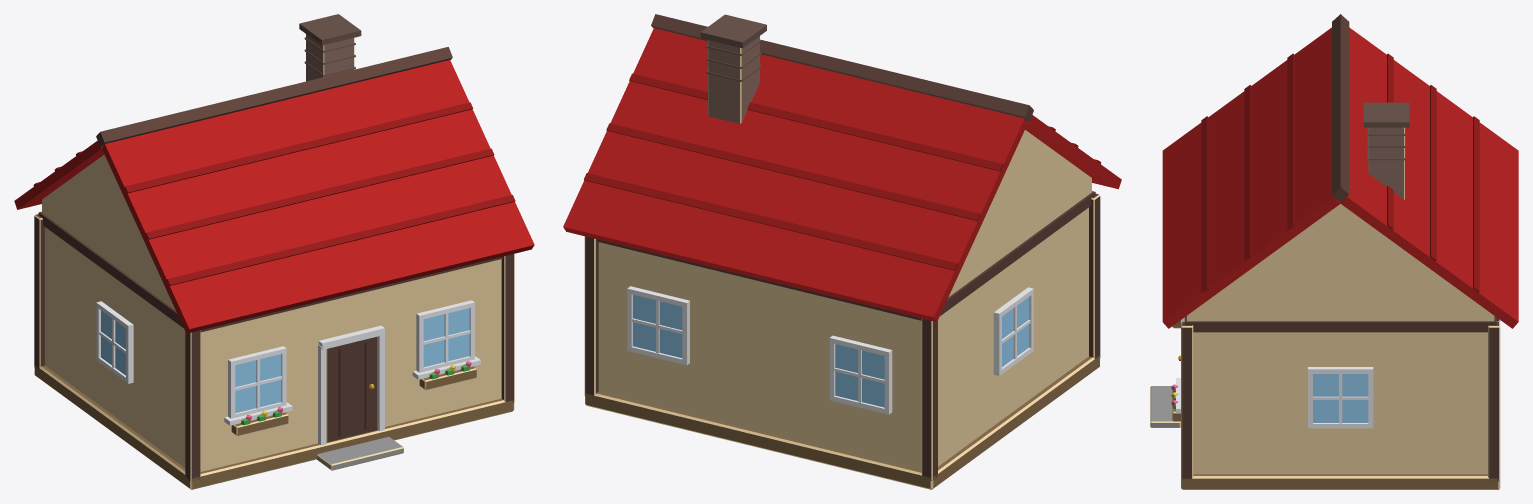
The model's file is cottage.glb.
The picture shows the model from 3 angles, left to right: view 1: azimuth 30°, elevation 25°; view 2: azimuth 150°, elevation 25°; view 3: azimuth 270°, elevation 25°; orthographic projection. The views are drawn at different scales.
Parts seen in each view (by area): view 1: cottage-m; view 2: cottage-m; view 3: cottage-m.
Boxes of the visible parts, x1,y1,x2,y2 form: cottage-m: (14, 14, 534, 489); cottage-m: (563, 14, 1121, 489); cottage-m: (1150, 14, 1518, 489).
Bounding box in the file's own units: 6.66 × 6.05 × 6.
